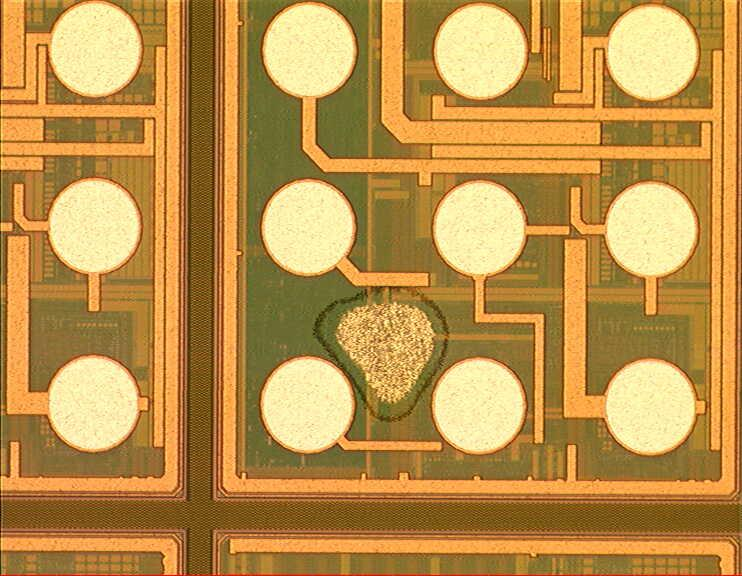BLOCK ETCH: (311, 282, 454, 426)
